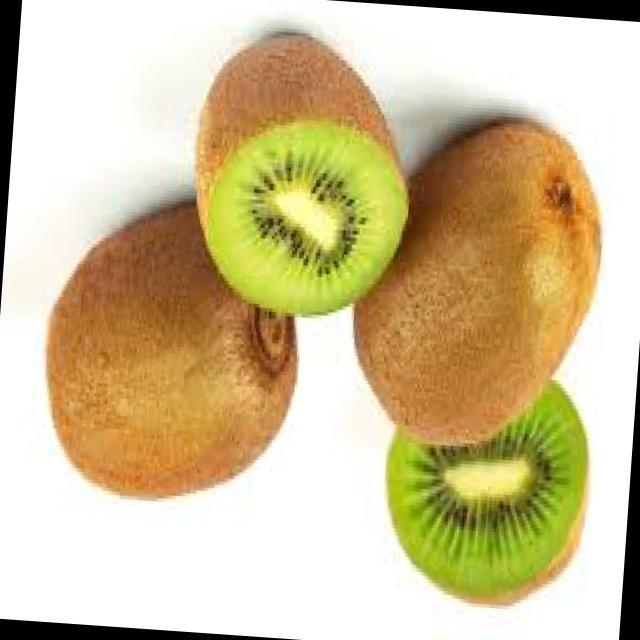Kiwi: (163, 10, 416, 327), (366, 406, 600, 628)
